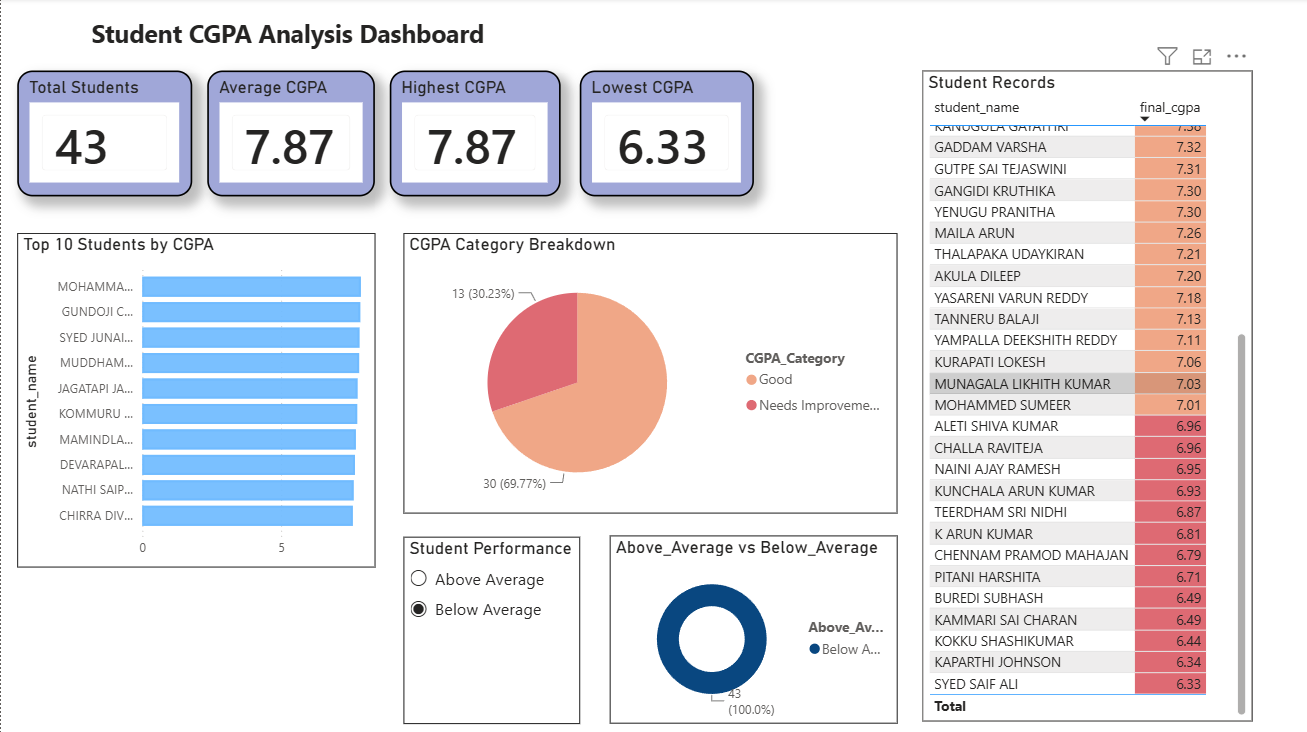

This screenshot's page, from the dashboard's own definition file:
{"tool":"powerbi","page":{"name":"Page 1","canvas":[1280,720],"ordinal":0},"visuals":[{"type":"tableEx","title":"Student Records","fields":{"Values":["AIML.Column3","AIML.final_cgpa"]},"box":[901.4,71.4,322.9,637.1],"z":0},{"type":"pieChart","title":"CGPA Category Breakdown","fields":{"Y":["AIML.total_students"],"Category":["AIML.CGPA_Category"]},"box":[394.3,230,482.9,274.3],"z":1000},{"type":"donutChart","title":"Above_Average vs Below_Average","fields":{"Y":["AIML.total_students"],"Category":["AIML.Above_Average"]},"box":[595.7,525.7,281.4,184.3],"z":2000},{"type":"listSlicer","title":"Student Performance","fields":{"Values":["AIML.Above_Average"]},"box":[394.3,527.1,172.9,182.9],"z":3000},{"type":"clusteredBarChart","title":"Top 10 Students by CGPA","fields":{"Category":["AIML.student_name"],"Y":["Sum(AIML.final_cgpa)"]},"box":[15.7,230,350,327.1],"z":4000},{"type":"cardVisual","title":"Total Students","fields":{"Data":["AIML.total_students"]},"box":[15.7,71.4,171.4,122.9],"z":5000},{"type":"cardVisual","title":"Average CGPA","fields":{"Data":["AIML.Average_CGPA"]},"box":[201.4,71.4,164.3,122.9],"z":6000},{"type":"cardVisual","title":"Highest CGPA","fields":{"Data":["AIML.highest_cgpa"]},"box":[380,71.4,167.1,122.9],"z":7000},{"type":"cardVisual","title":"Lowest CGPA","fields":{"Data":["AIML.lowest_cgpa"]},"box":[565.7,71.4,170,122.9],"z":8000},{"type":"textbox","box":[34.2,13.5,492.8,48.9],"z":9000}]}

Visuals, with their boxes in screenshot pixels (x1, y1, x2, y2), scaled from the page's 1280x720 canvas onto the 1307x732 screenshot:
"Student Records" tableEx: 920 73 1250 720
"CGPA Category Breakdown" pieChart: 403 234 896 513
"Above_Average vs Below_Average" donutChart: 608 534 896 722
"Student Performance" listSlicer: 403 536 579 722
"Top 10 Students by CGPA" clusteredBarChart: 16 234 373 566
"Total Students" cardVisual: 16 73 191 198
"Average CGPA" cardVisual: 206 73 373 198
"Highest CGPA" cardVisual: 388 73 559 198
"Lowest CGPA" cardVisual: 578 73 751 198
textbox: 35 14 538 63
